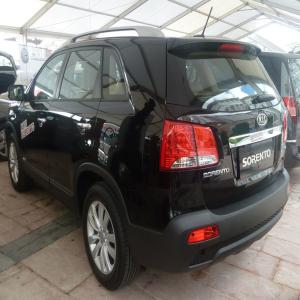Vehicle-registration-plate: (240, 139, 274, 180)
